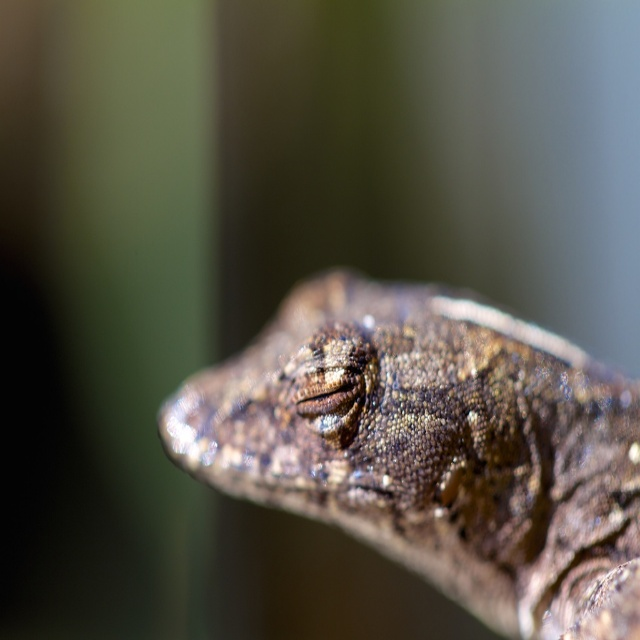Lizard: (156, 262, 640, 639)
